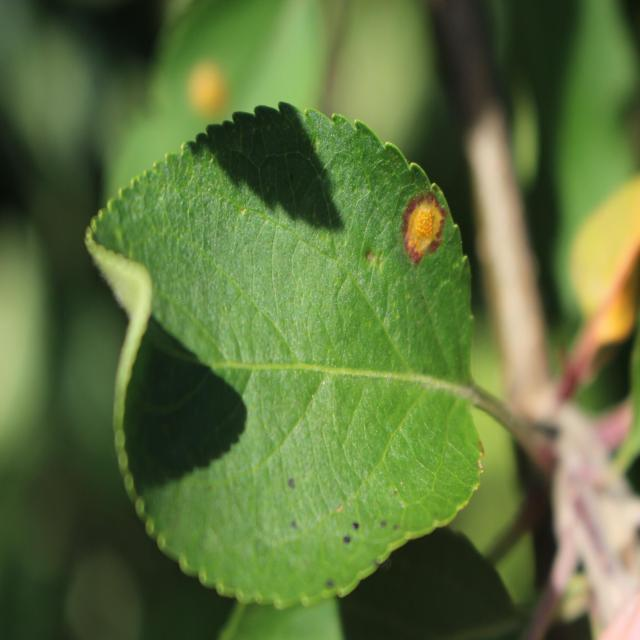Rust: (387, 180, 446, 281)
